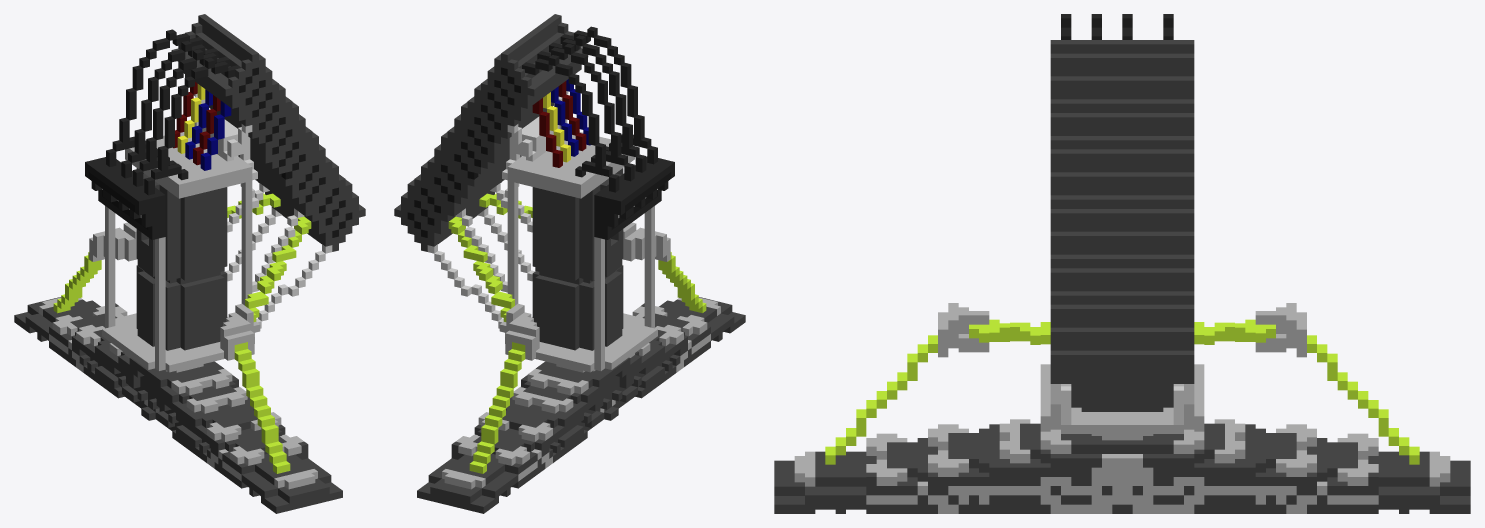
File: Bot1-3.obj
The picture shows the model from 3 angles, left to right: view 1: azimuth 30°, elevation 25°; view 2: azimuth 150°, elevation 25°; view 3: azimuth 270°, elevation 25°; orthographic projection. The views are drawn at different scales.
Parts seen in each view (by area): view 1: Bot1-3; view 2: Bot1-3; view 3: Bot1-3.
Boxes of the visible parts, x1=… form: Bot1-3: x1=14, y1=14, x2=365, y2=513; Bot1-3: x1=394, y1=14, x2=745, y2=513; Bot1-3: x1=774, y1=14, x2=1470, y2=513.
Size of the model in its own units: 34 by 52 by 68.
Materials: 1 (1 with a texture image).
